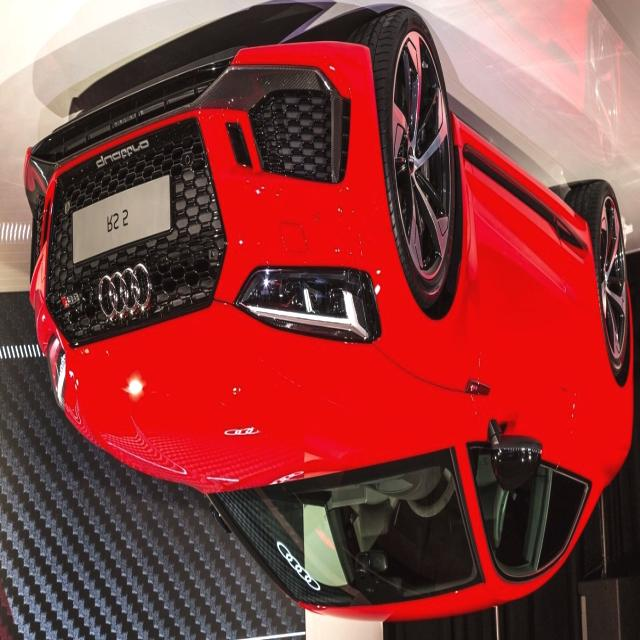red: (20, 26, 636, 629)
